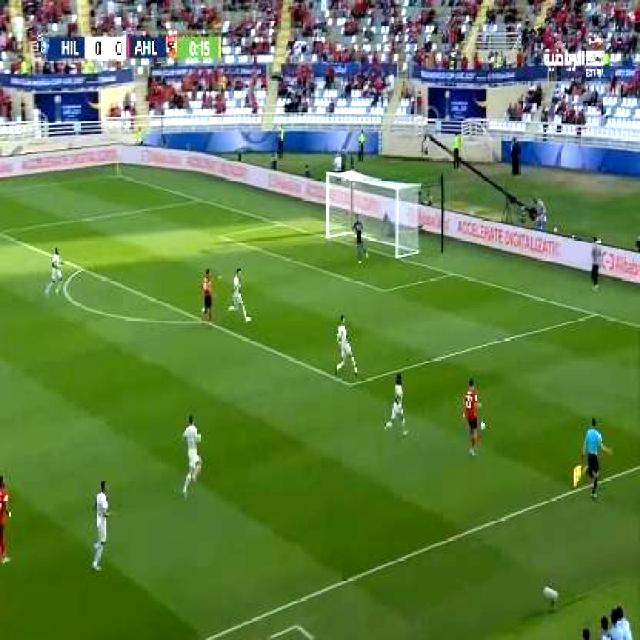bigarea_bottom_inner: (338, 374, 362, 394)
bigarea_bottom_outter: (586, 305, 605, 323)
bigarea_top_inner: (0, 230, 8, 238)
bigarea_top_outter: (194, 194, 208, 206)
bottom_arc_area_intersection: (194, 314, 215, 329)
corner: (112, 171, 120, 177)
smallarea_bottom_inner: (375, 283, 391, 299)
smallarea_bottom_outter: (442, 264, 458, 282)
smallarea_top_inner: (214, 229, 232, 245)
smallarea_top_outter: (274, 217, 291, 231)
top_arc_area_intersection: (76, 263, 84, 275)
